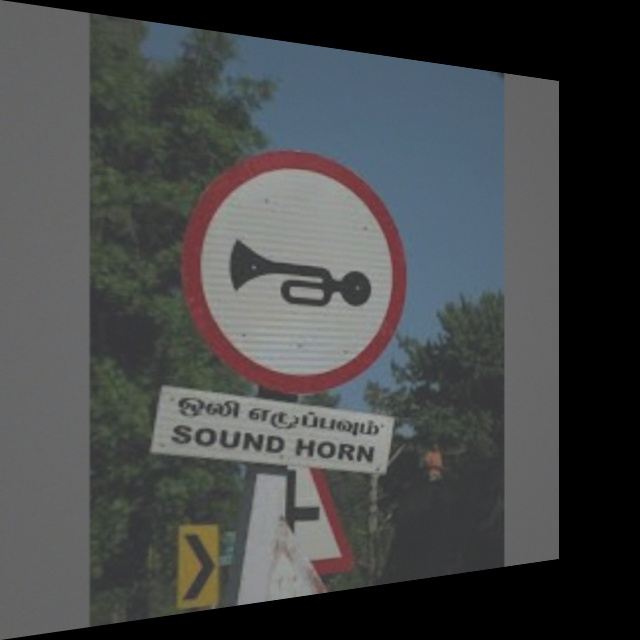Compulsory_Sound_Horn: (186, 142, 406, 389)
